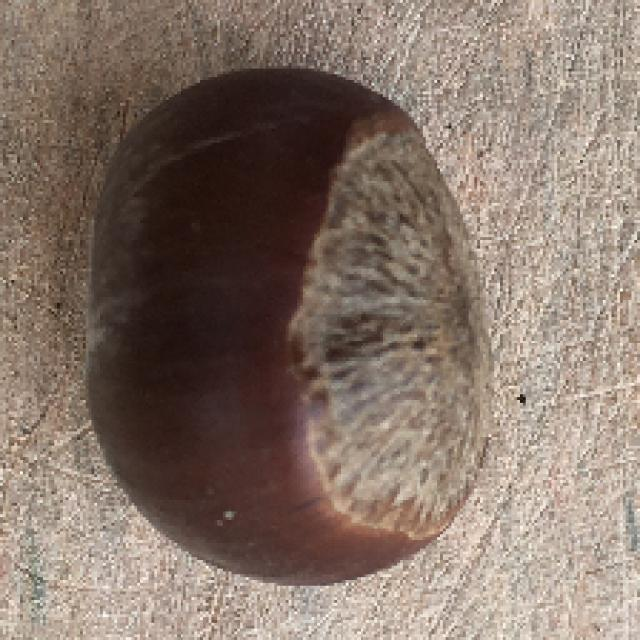qualityHazelnut: (79, 63, 496, 584)
